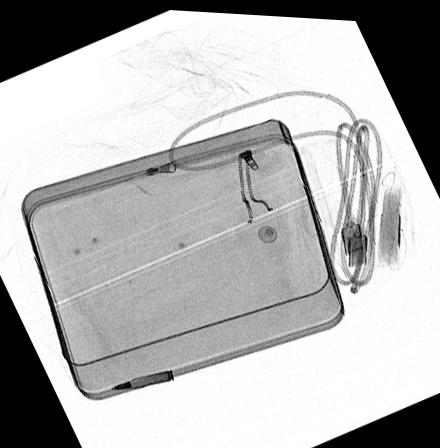Bullet: (110, 366, 175, 389)
